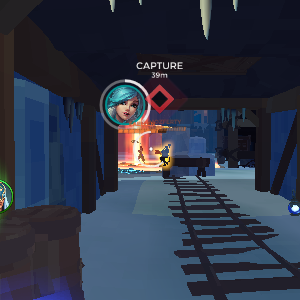model: (153, 140, 173, 169), (132, 142, 147, 169)
